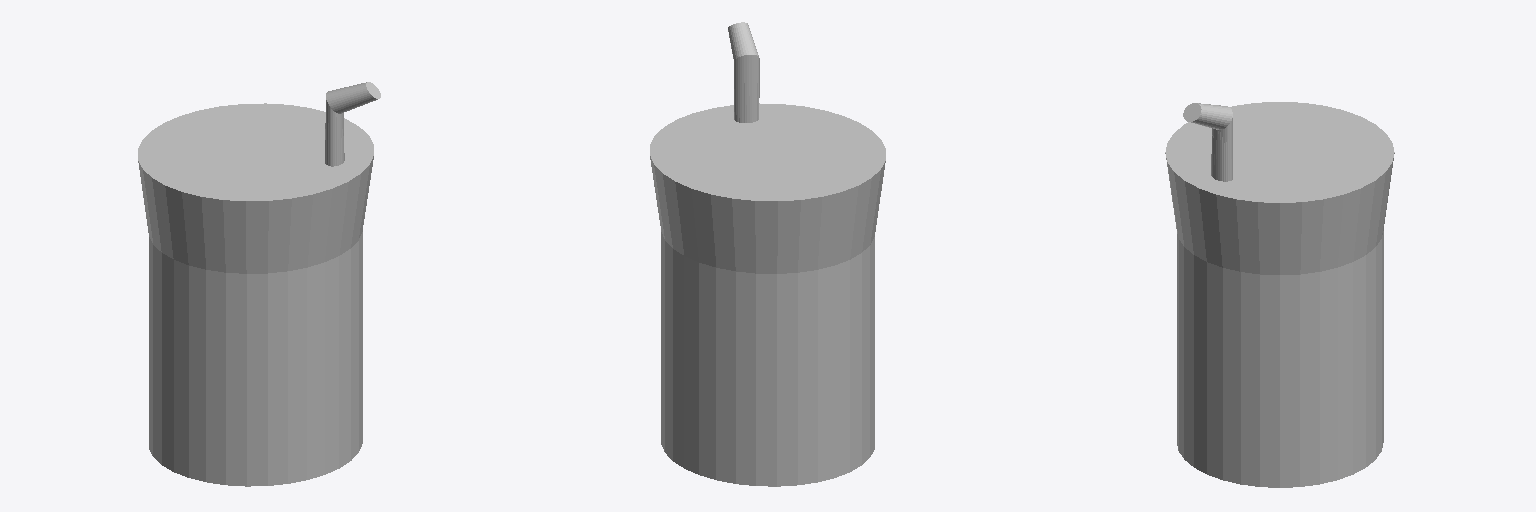
File: bubbletea.obj
The picture shows the model from 3 angles: view 1: azimuth 30°, elevation 25°; view 2: azimuth 150°, elevation 25°; view 3: azimuth 270°, elevation 25°; orthographic projection.
Visible parts, largest first — view 1: Cylinder; view 2: Cylinder; view 3: Cylinder.
Part boxes in pixels (bbox=[...]): Cylinder: bbox=[138, 82, 380, 486]; Cylinder: bbox=[650, 22, 885, 486]; Cylinder: bbox=[1165, 102, 1394, 487].
Size of the model in its own units: 56.63 by 96.97 by 54.09.